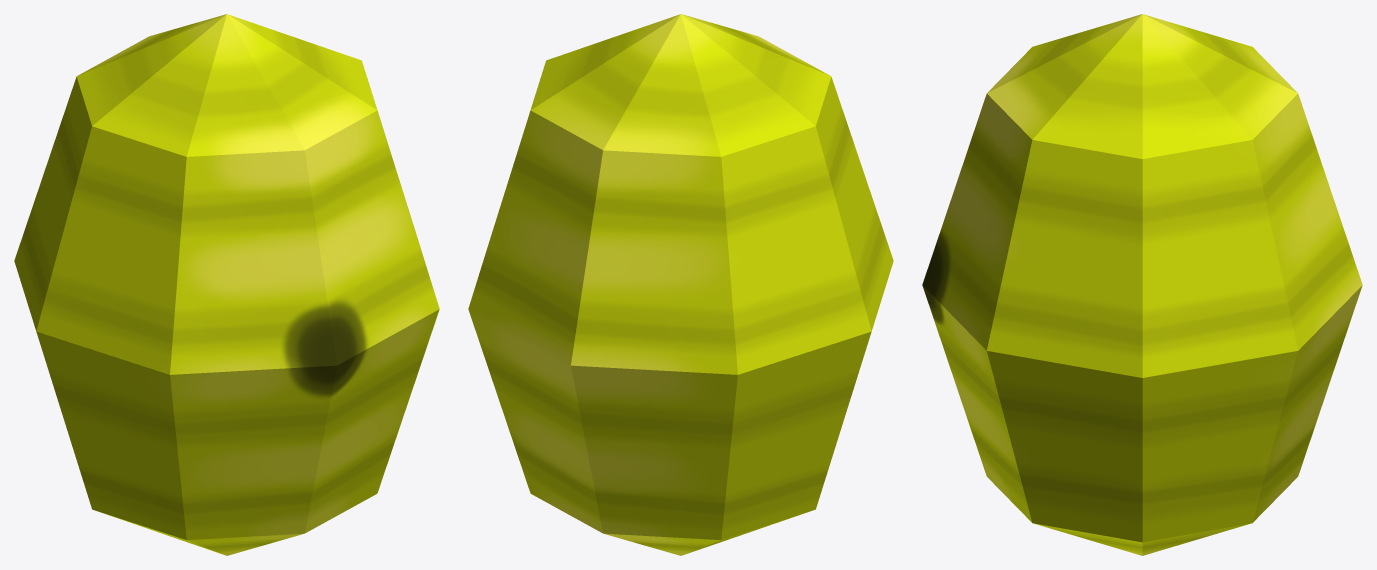
The model's file is Panal.glb.
3 renders of one model, left to right at view 1: azimuth 30°, elevation 25°; view 2: azimuth 150°, elevation 25°; view 3: azimuth 270°, elevation 25°, orthographic.
Visible parts, largest first — view 1: Panal de abejas; view 2: Panal de abejas; view 3: Panal de abejas.
Boxes of the visible parts, left/top/right/bottom form: Panal de abejas: left=14, top=14, right=439, bottom=555; Panal de abejas: left=468, top=14, right=893, bottom=555; Panal de abejas: left=922, top=14, right=1362, bottom=555.
Size of the model in its own units: 11.8 by 16.02 by 11.8.
1 material, 1 textured.
